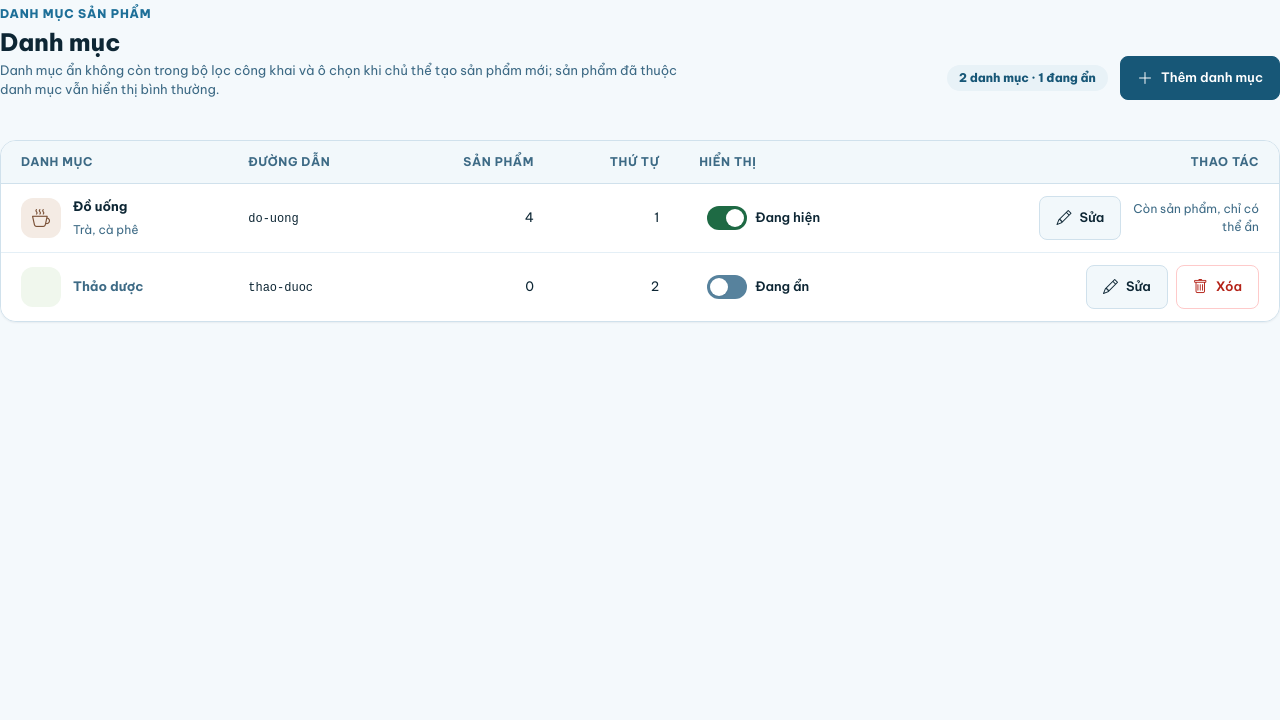
Scenario: AdminCategoriesView › sửa danh mục và hiện lỗi trùng tên từ máy chủ
The image size is (1280, 720).
Click the button with aria-label "Sửa danh mục Đồ uống" at (1080, 218), box [1039, 196, 1121, 240]
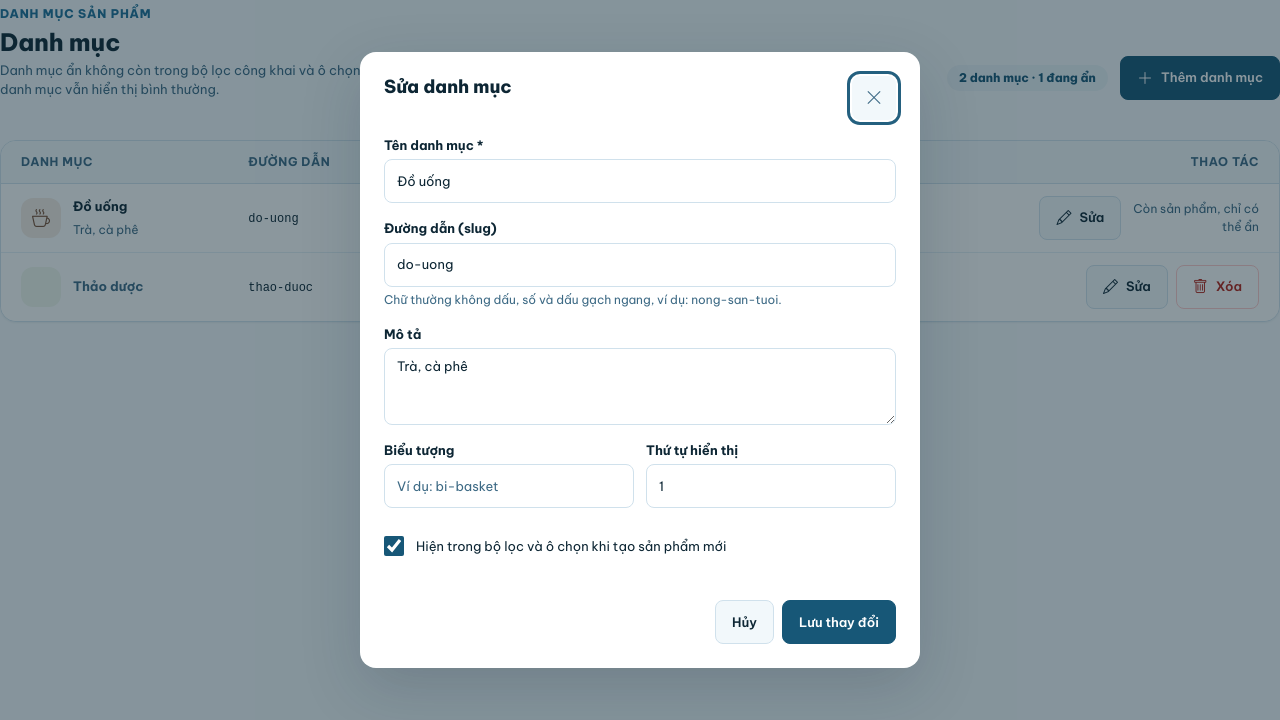
Result: the field labelled "Tên danh mục *" holds "Đồ uống"
Replace the text in the field labelled "Tên danh mục *" with "Thảo dược" at (640, 181), box [384, 159, 896, 203]
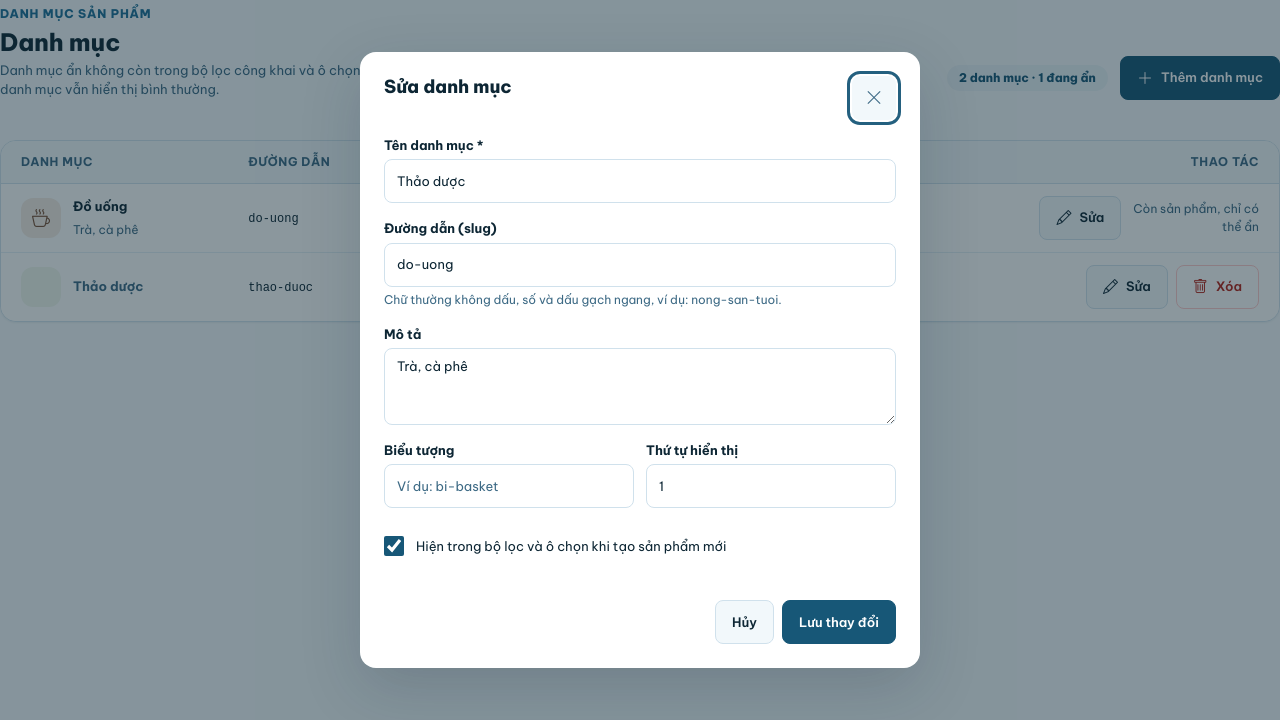
Submit the form, box [384, 136, 896, 644]
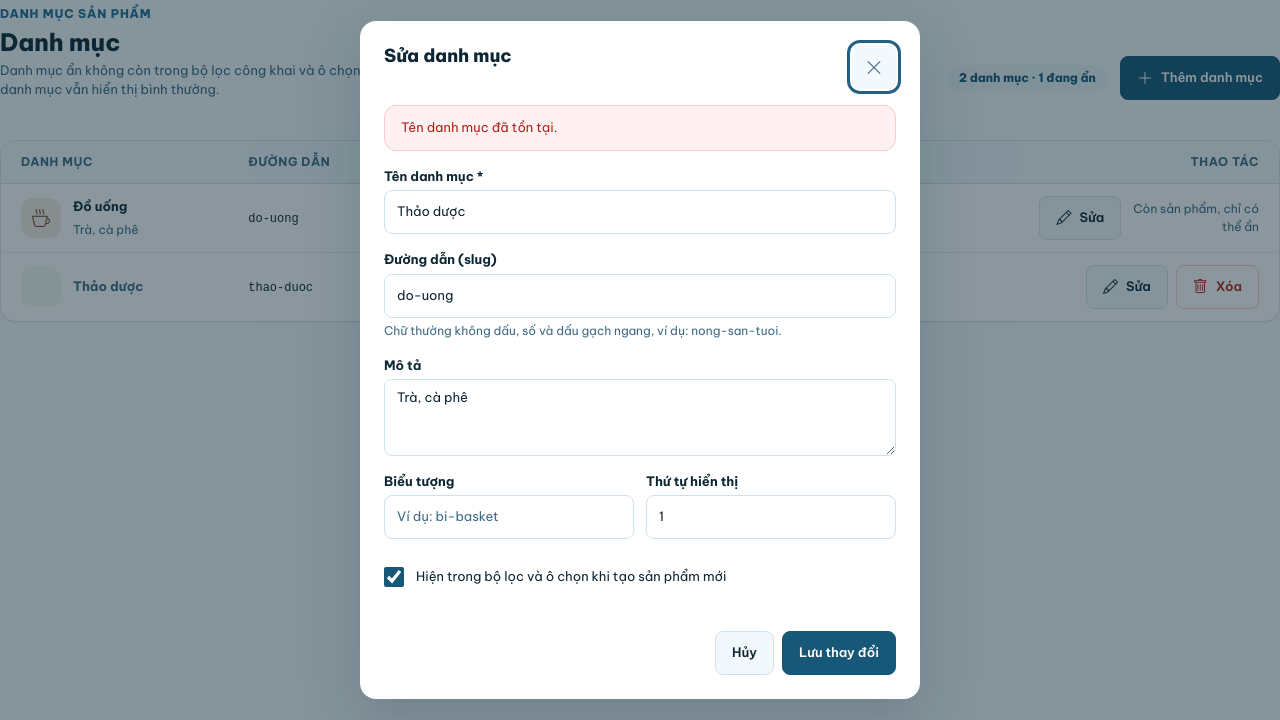
Result: the message "Tên danh mục đã tồn tại." is shown at [384, 105, 896, 150]
